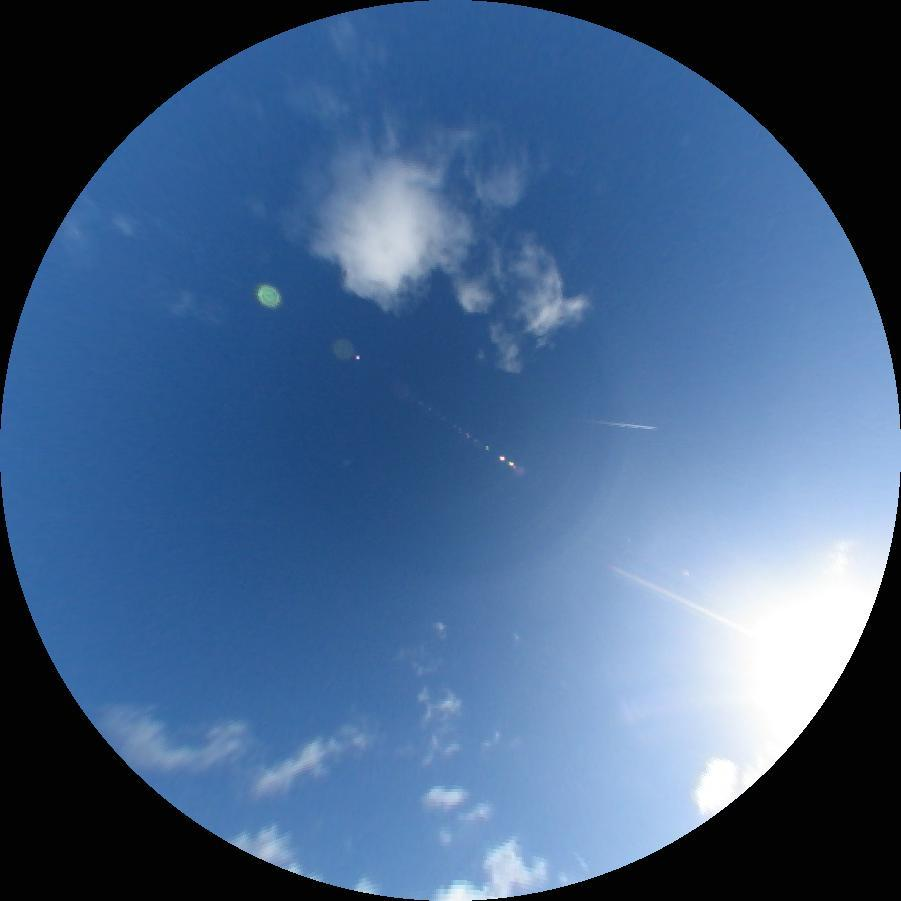contrail young: (585, 419, 658, 431), (572, 847, 594, 879)
parasite: (609, 561, 753, 639)
sun: (710, 534, 891, 758)
